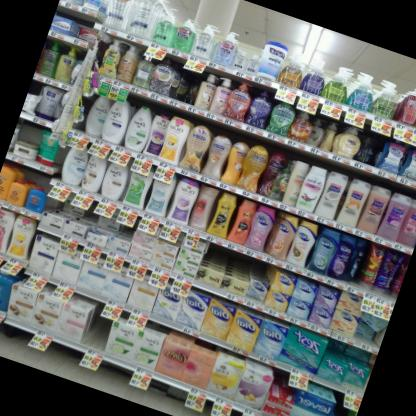empty_space: (75, 306, 116, 370)
